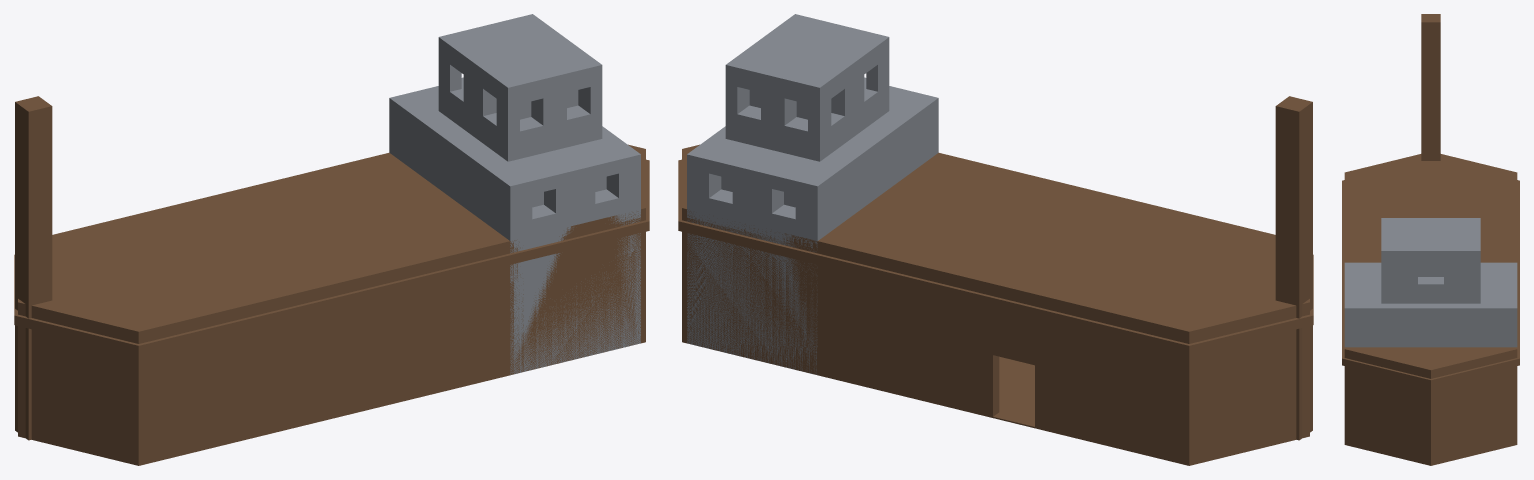
3 views of the same model, side by side, from view 1: azimuth 30°, elevation 25°; view 2: azimuth 150°, elevation 25°; view 3: azimuth 270°, elevation 25° (orthographic). The views are drawn at different scales.
Parts seen in each view (by area): view 1: body_timber, roof_timber, body_metal, trim_timber; view 2: body_timber, body_metal, roof_timber, trim_timber; view 3: body_metal, body_timber, roof_timber, trim_timber.
Part boxes in pixels (x1,y1,x2,y2): body_timber: [15, 96, 645, 465]; roof_timber: [18, 144, 645, 339]; body_metal: [389, 14, 640, 374]; trim_timber: [14, 159, 649, 355]; body_timber: [682, 96, 1312, 465]; body_metal: [687, 14, 938, 374]; roof_timber: [682, 144, 1309, 339]; trim_timber: [678, 159, 1313, 355]; body_metal: [1344, 218, 1517, 347]; body_timber: [1344, 14, 1517, 465]; roof_timber: [1344, 154, 1517, 375]; trim_timber: [1342, 180, 1519, 386].
Size of what is drawn, in the model's own units: 24.28 by 12 by 8.24.
